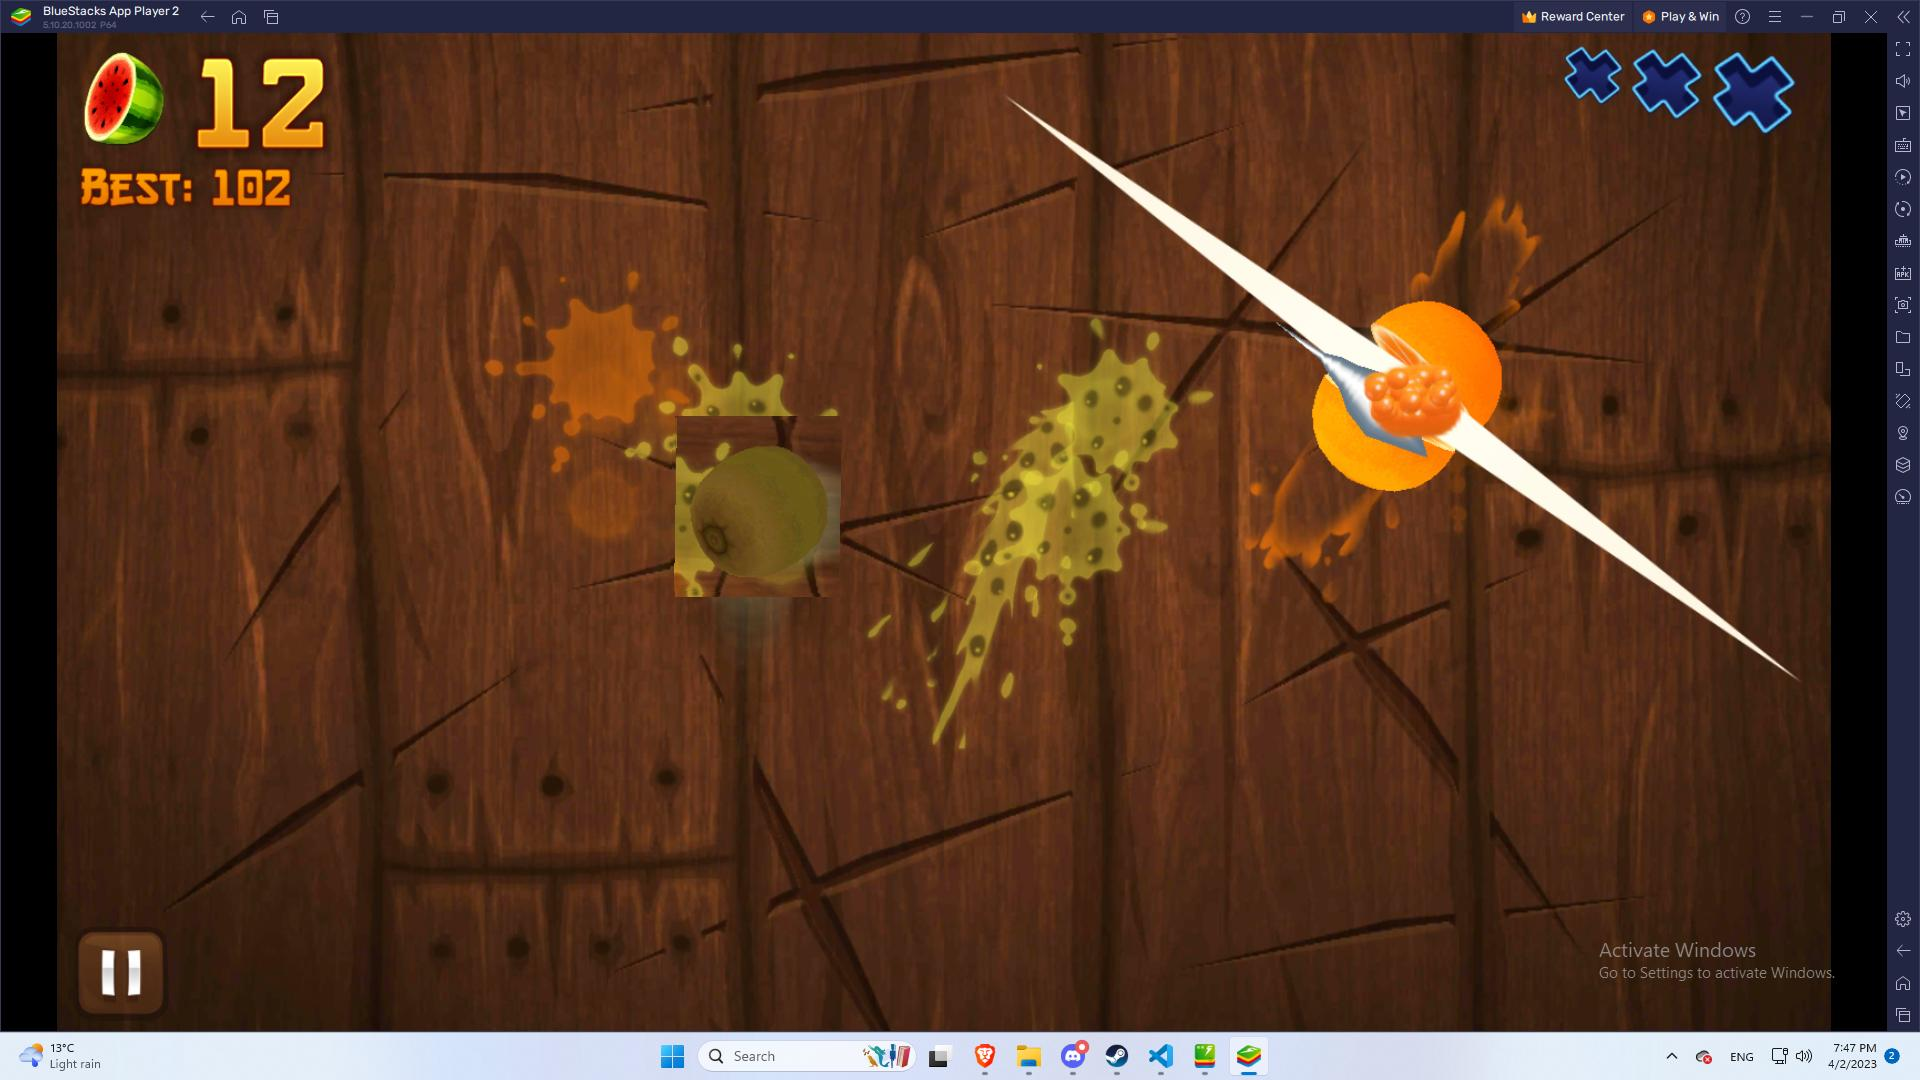fruit: (671, 419, 845, 593)
